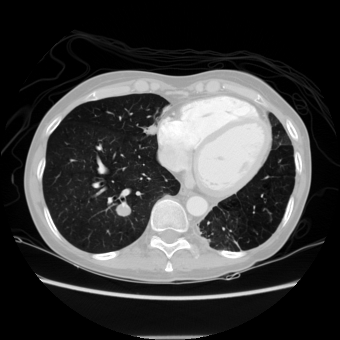nodule: (116, 203, 130, 217)
